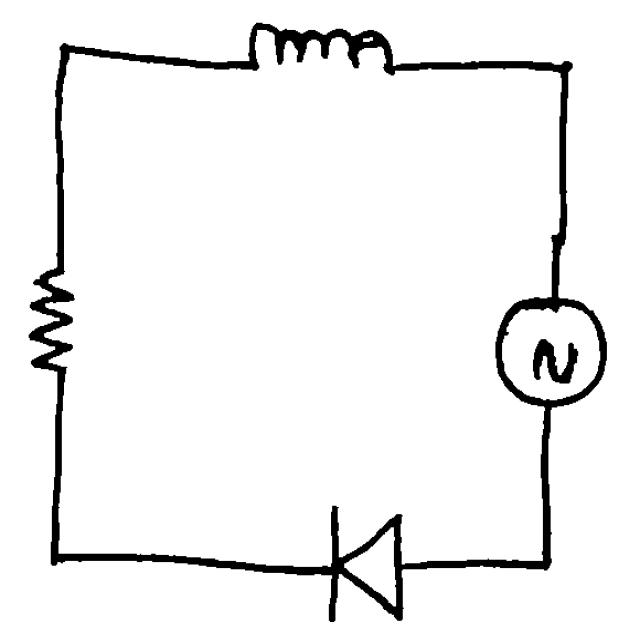ac: (481, 284, 612, 409)
diode: (306, 486, 425, 634)
inductor: (230, 7, 402, 96)
resistor: (17, 241, 91, 392)
